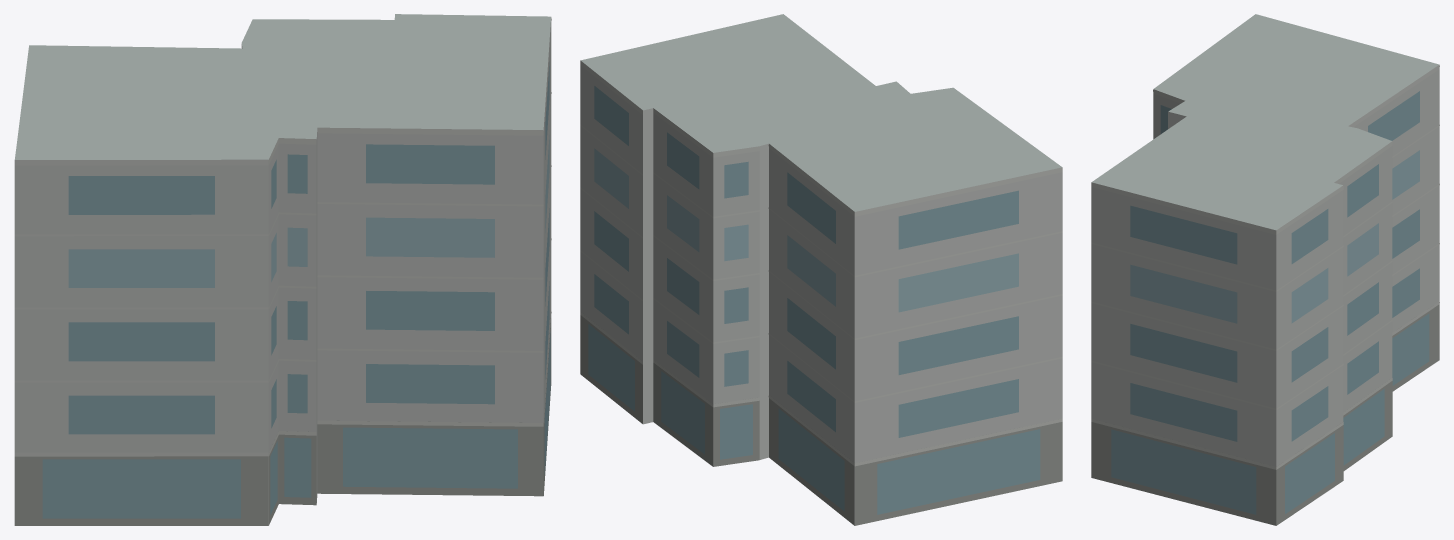
The model's file is survey-upis-32721564.glb.
The picture shows the model from 3 angles, left to right: view 1: azimuth 30°, elevation 25°; view 2: azimuth 150°, elevation 25°; view 3: azimuth 270°, elevation 25°; orthographic projection. The views are drawn at different scales.
Parts seen in each view (by area): view 1: survey-upis-32721564.tmp; view 2: survey-upis-32721564.tmp; view 3: survey-upis-32721564.tmp.
Part boxes in pixels (x1,y1,x2,y2): survey-upis-32721564.tmp: (14, 14, 551, 525); survey-upis-32721564.tmp: (580, 14, 1062, 525); survey-upis-32721564.tmp: (1091, 14, 1439, 525).
Size of the model in its own units: 24.76 by 15.75 by 16.84.
